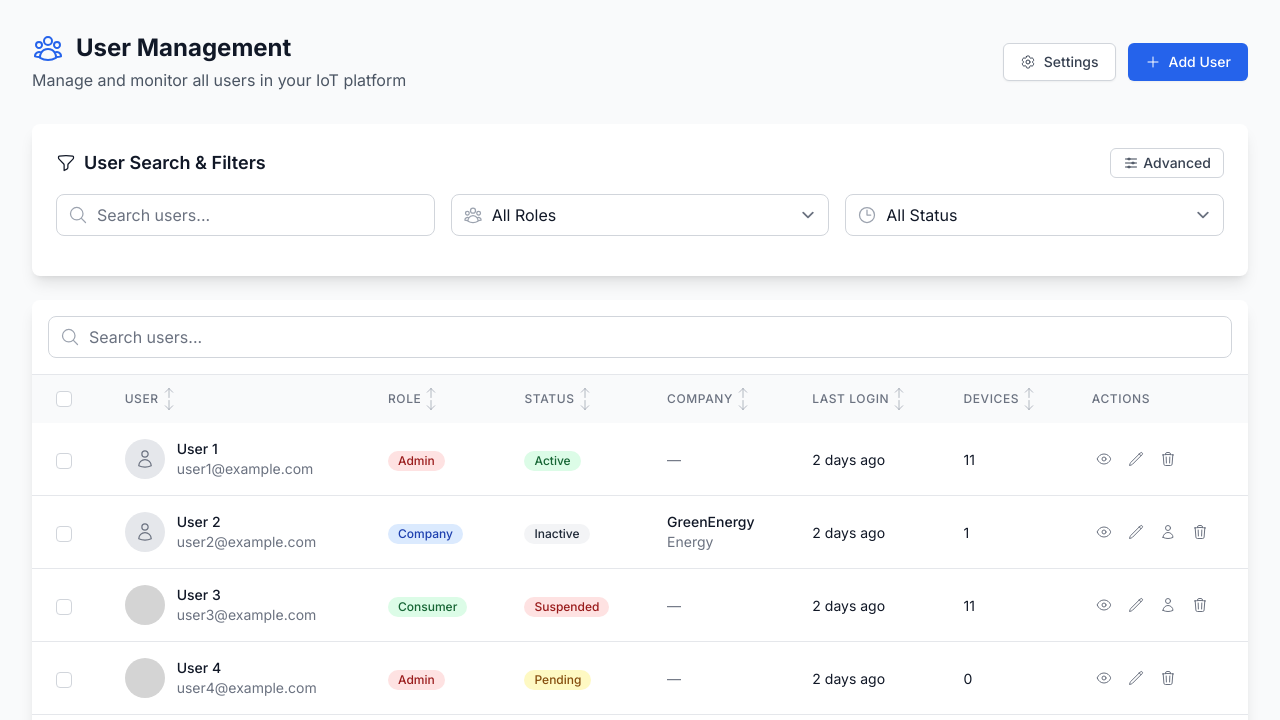
Test: UserManagementPage - Bulk Operations › handles filter clearing
This screenshot has width=1280, height=720.
Note: Apply a filter
Type "test" into the field with placeholder "Search users..." below "User Search & Filters" at (245, 215), box x1=56 y1=194 x2=435 y2=236
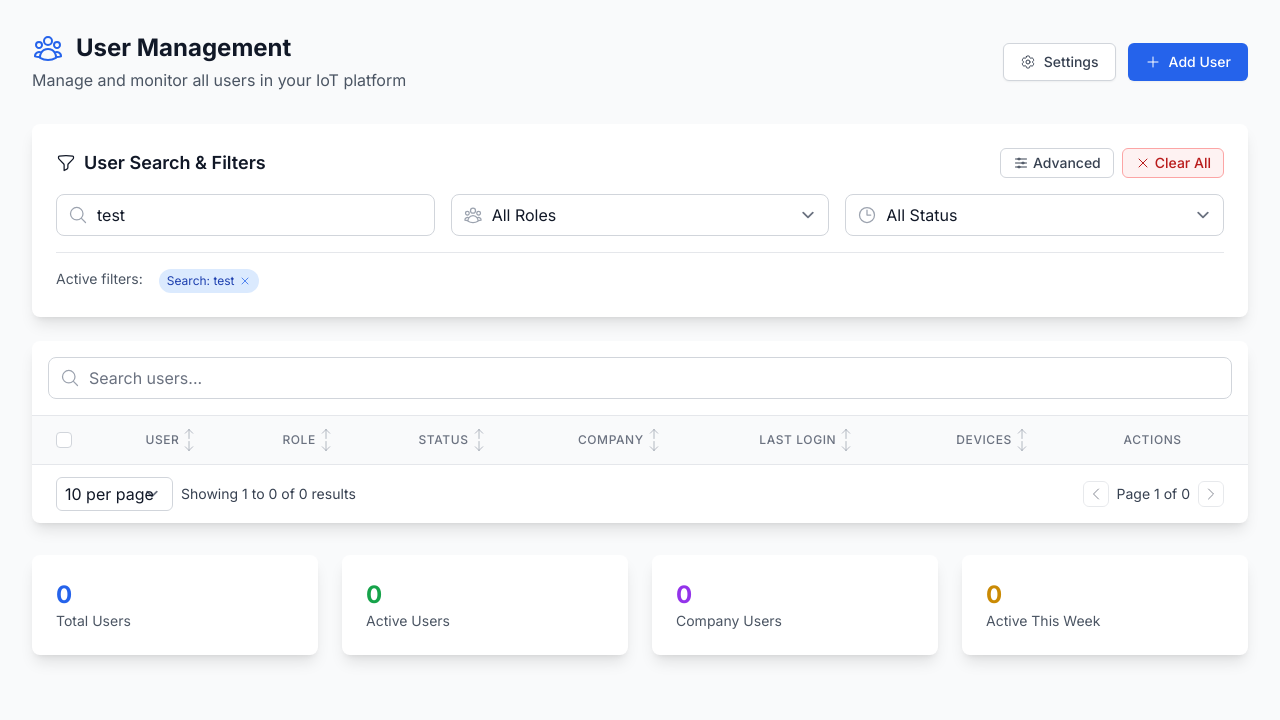
Now the button "Clear All" is shown
Note: Clear filters
Click the button "Clear All" at (1173, 163), box x1=1122 y1=148 x2=1224 y2=178
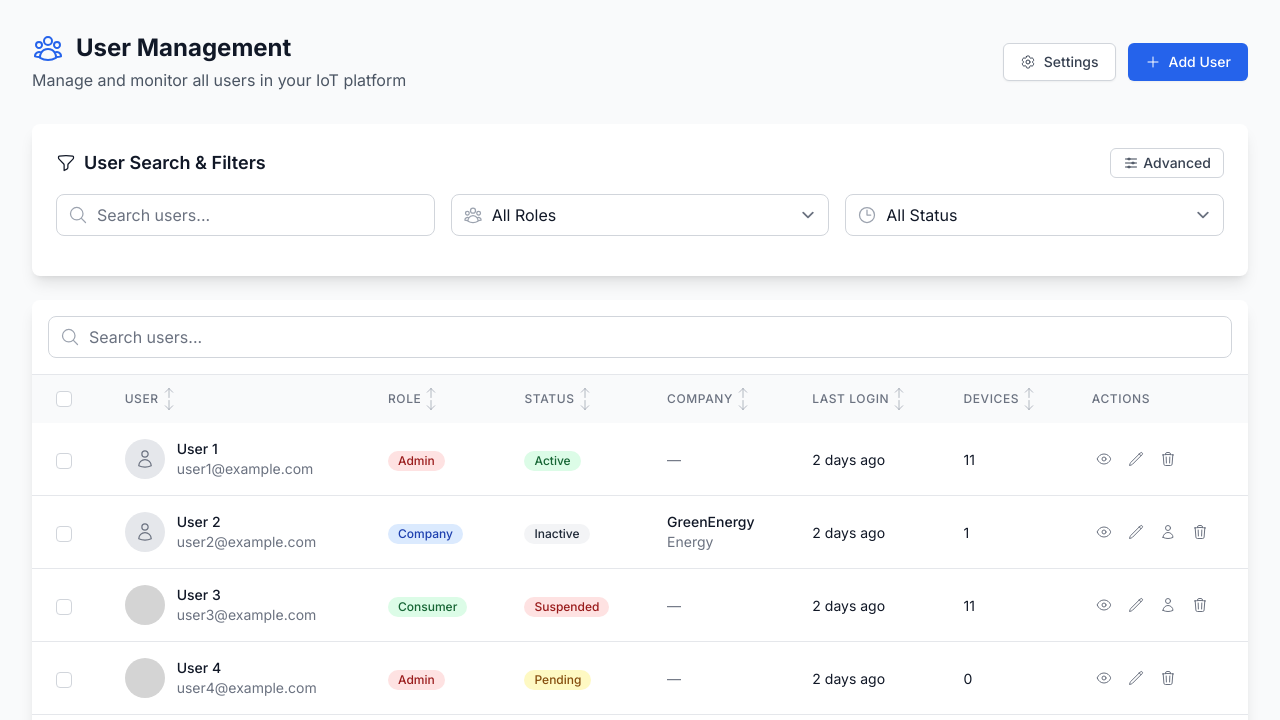
Now the field with placeholder "Search users..." below "User Search & Filters" is empty, box x1=56 y1=194 x2=435 y2=236
